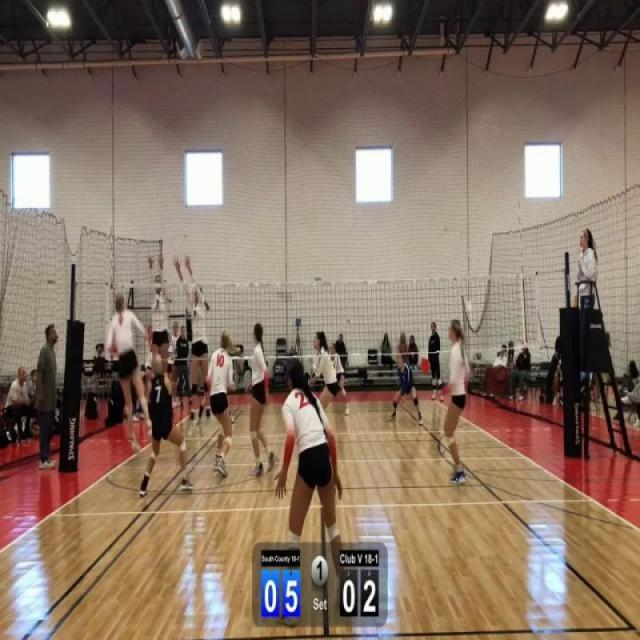volleyball: (276, 288, 292, 302)
